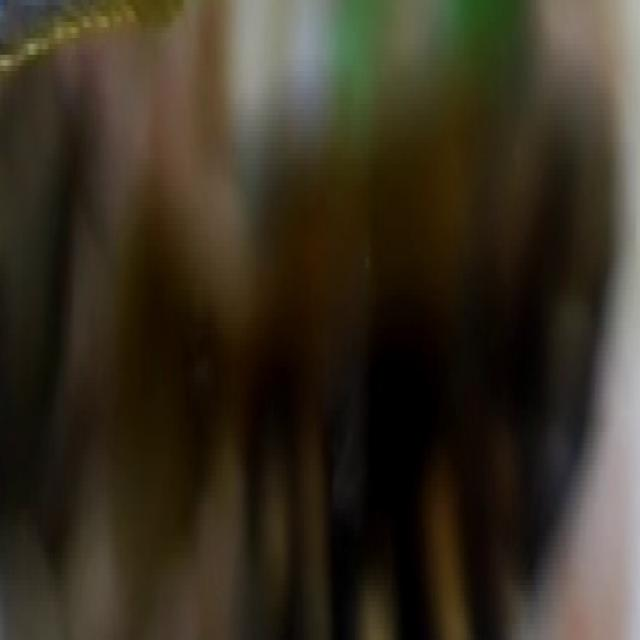fish: (1, 0, 640, 635)
